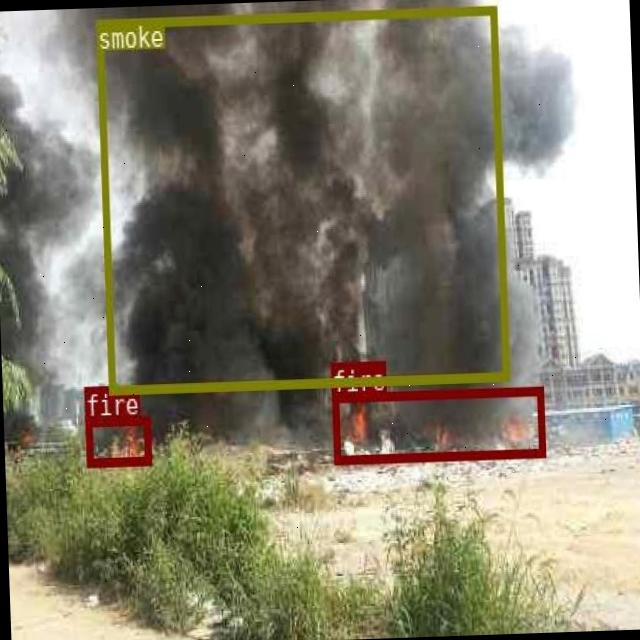fire: (330, 384, 544, 462), (84, 415, 149, 465)
smoke: (96, 4, 508, 393)
